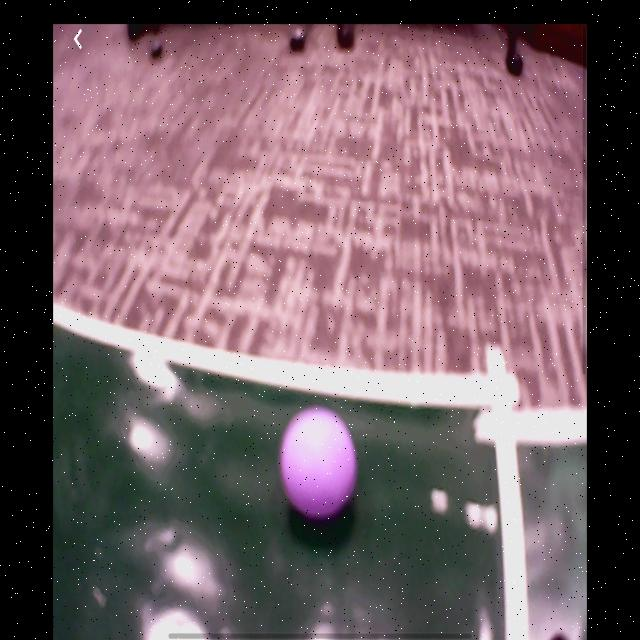ball: (280, 408, 359, 523)
